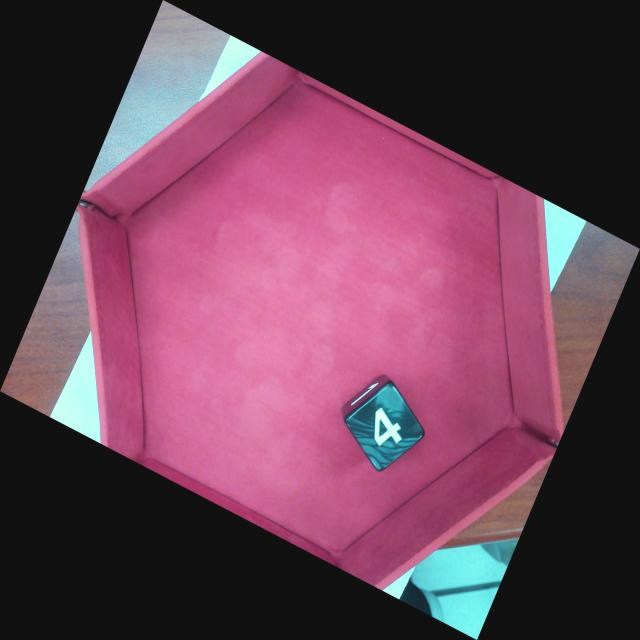dice: (352, 385, 430, 473)
